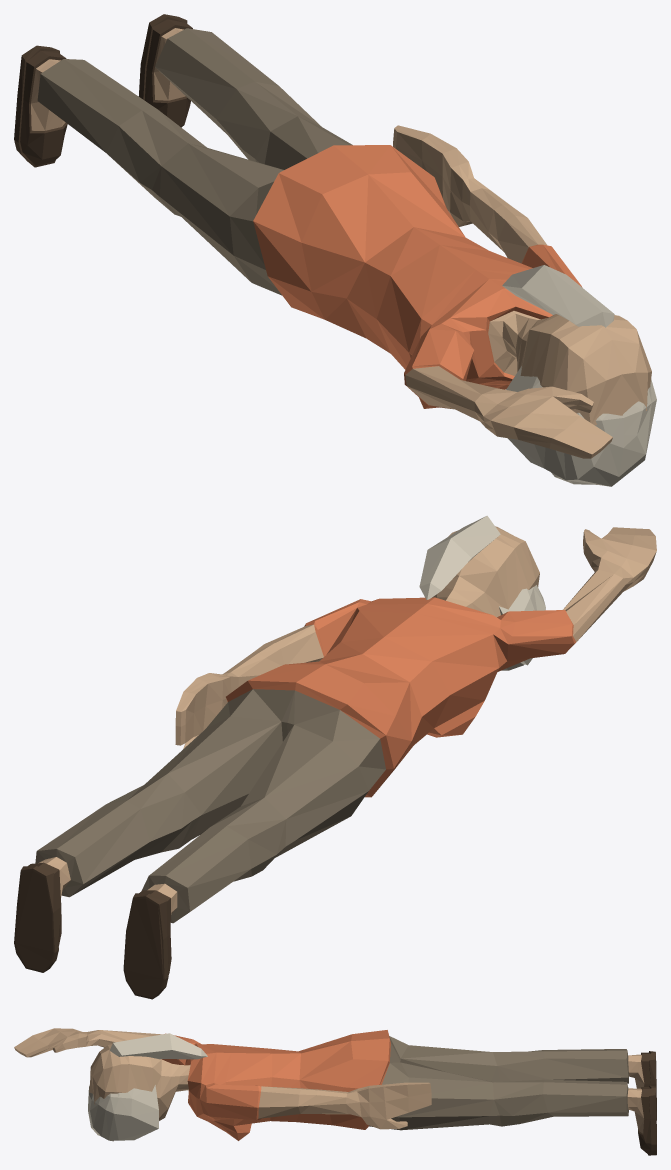
File: woman-waving.obj
The picture shows the model from 3 angles, top to bottom: view 1: azimuth 30°, elevation 25°; view 2: azimuth 150°, elevation 25°; view 3: azimuth 270°, elevation 25°; orthographic projection. The views are drawn at different scales.
Visible parts, largest first — view 1: woman-waving; view 2: woman-waving; view 3: woman-waving.
Part boxes in pixels (x1=…): woman-waving: x1=14, y1=14, x2=656, y2=486; woman-waving: x1=14, y1=515, x2=656, y2=999; woman-waving: x1=14, y1=1028, x2=656, y2=1155.
Bounding box in the file's own units: 18.71 × 13.67 × 74.11.
